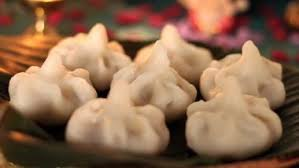modak: (180, 73, 297, 160), (66, 89, 178, 157), (111, 47, 208, 116), (194, 45, 299, 106), (11, 55, 110, 119), (47, 21, 137, 90)
